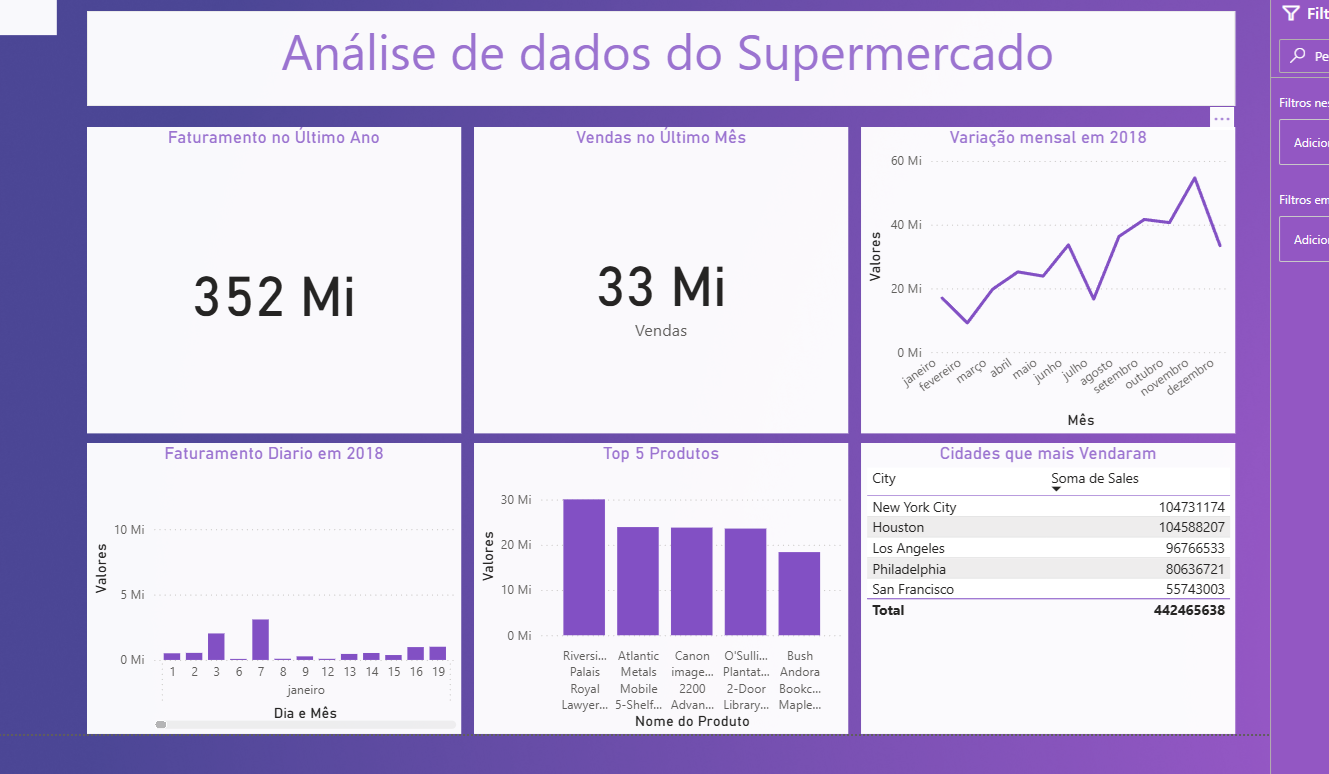

Layout of this report page (visuals, bound fields, positions):
{"tool":"powerbi","page":{"name":"Página 1","canvas":[1280,720],"ordinal":0},"visuals":[{"type":"card","title":"Faturamento no Último Ano","fields":{"Values":["Sum(train.Sales)"]},"box":[129.4,129.4,363.8,297.6],"z":0},{"type":"textbox","box":[129.4,16.5,1116.6,92.4],"z":1000},{"type":"actionButton","box":[0,0,100,40],"z":2000},{"type":"card","title":"Faturamento no Último Mês","fields":{"Values":["Sum(train.Sales)","select","select1"]},"box":[506,129,364,298],"z":3000},{"type":"lineChart","title":"Variação mensal em 2018","fields":{"Y":["Sum(train.Sales)"],"Category":["train.Order Date.Variation.Hierarquia de datas.Mês"]},"box":[882,129,364,298],"z":4000},{"type":"columnChart","title":"Faturamento Diário em 2018","fields":{"Y":["Sum(train.Sales)"],"Category":["train.Order Date.Variation.Hierarquia de datas.Mês","train.Order Date.Variation.Hierarquia de datas.Dia"]},"box":[129,437,364,283],"z":5000},{"type":"tableEx","title":"Cidades que mais Vendaram","fields":{"Values":["train.City","Sum(train.Sales)"]},"box":[882,437,364,283],"z":6000},{"type":"columnChart","title":"Top 5 Produtos","fields":{"Y":["Sum(train.Sales)"],"Category":["train.Product Name"]},"box":[506,437,364,283],"z":7000}]}

Visuals, with their boxes in screenshot pixels (x1, y1, x2, y2):
"Faturamento no Último Ano" card: 88, 126, 460, 430
textbox: 88, 10, 1231, 105
actionButton: 0, 0, 57, 34
"Faturamento no Último Mês" card: 473, 125, 846, 430
"Variação mensal em 2018" lineChart: 858, 125, 1231, 430
"Faturamento Diário em 2018" columnChart: 87, 441, 460, 730
"Cidades que mais Vendaram" tableEx: 858, 441, 1231, 730
"Top 5 Produtos" columnChart: 473, 441, 846, 730
